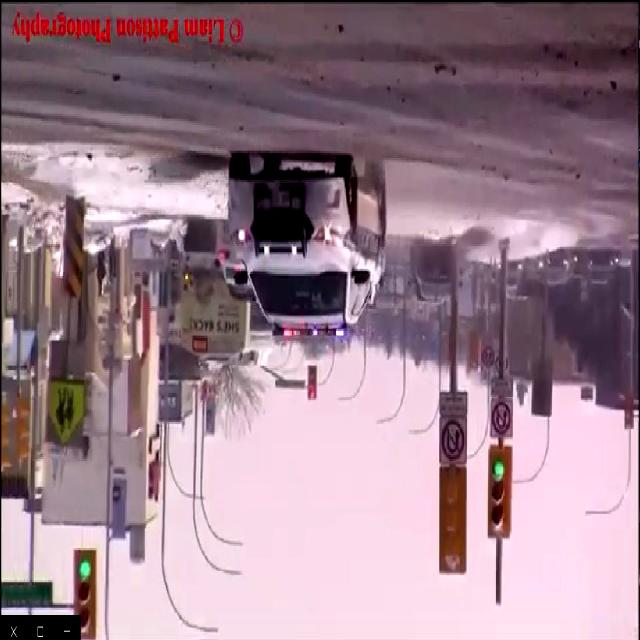emergency: (222, 143, 393, 339)
